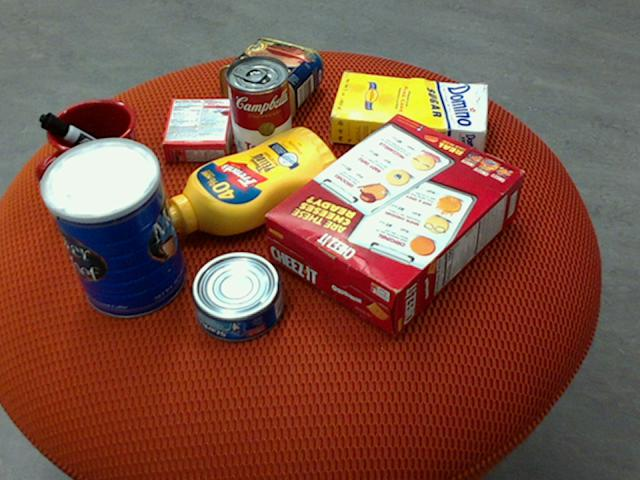cracker_box: (265, 112, 526, 334)
gelatin_box: (161, 97, 235, 162)
large_marker: (39, 112, 142, 178)
master_chef_can: (38, 138, 186, 318)
mug: (39, 99, 145, 205)
mustard_bottle: (156, 126, 342, 235)
potted_meat_can: (219, 38, 323, 121)
sugar_box: (330, 72, 489, 155)
tomato_soup_can: (226, 54, 292, 163)
tuna_fish_can: (191, 252, 285, 342)
